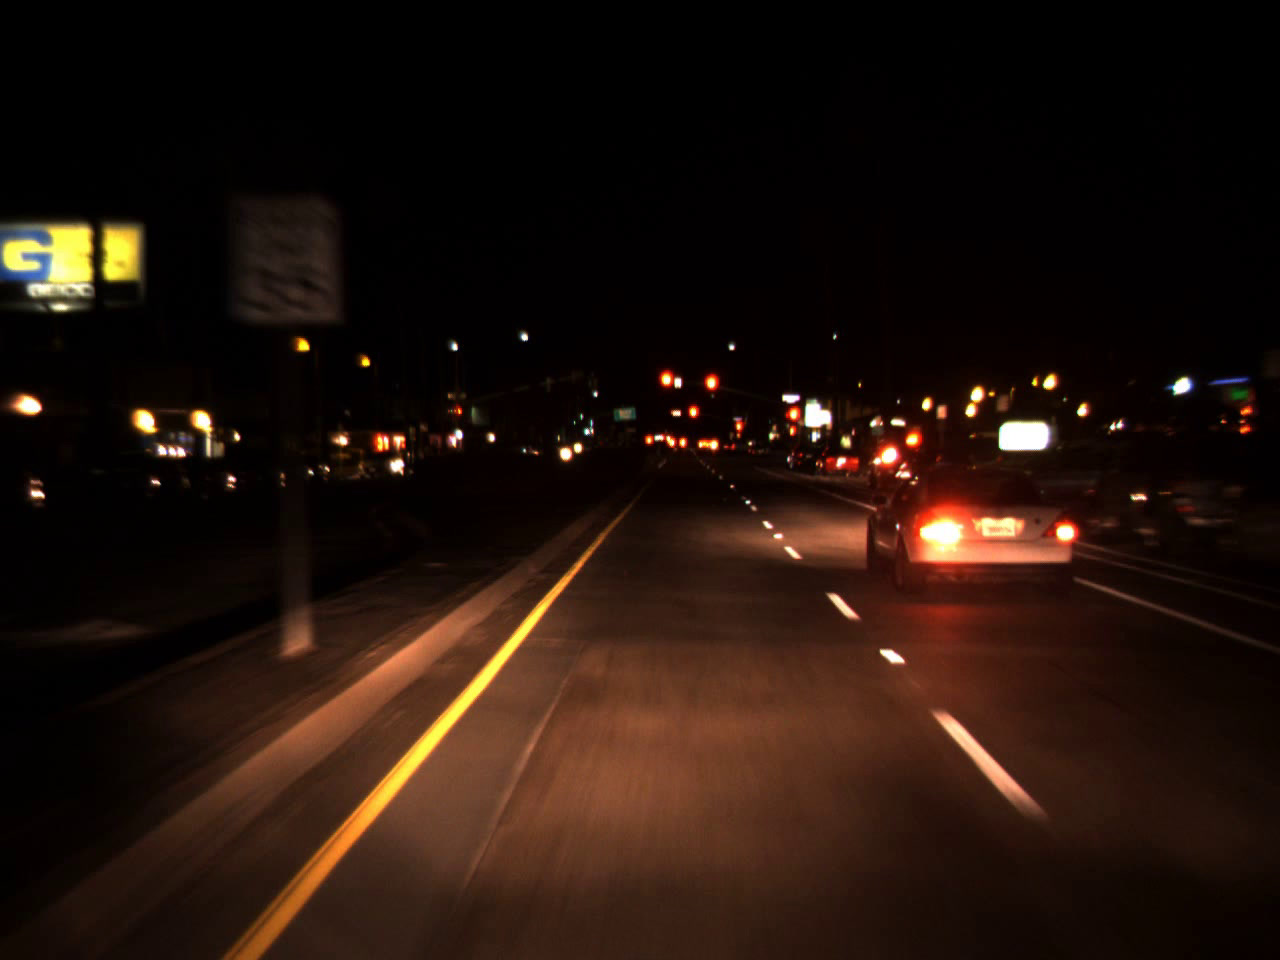stop: (782, 403, 803, 438), (702, 371, 720, 411), (686, 403, 699, 435), (734, 417, 744, 449), (660, 373, 669, 394), (457, 406, 463, 422)
